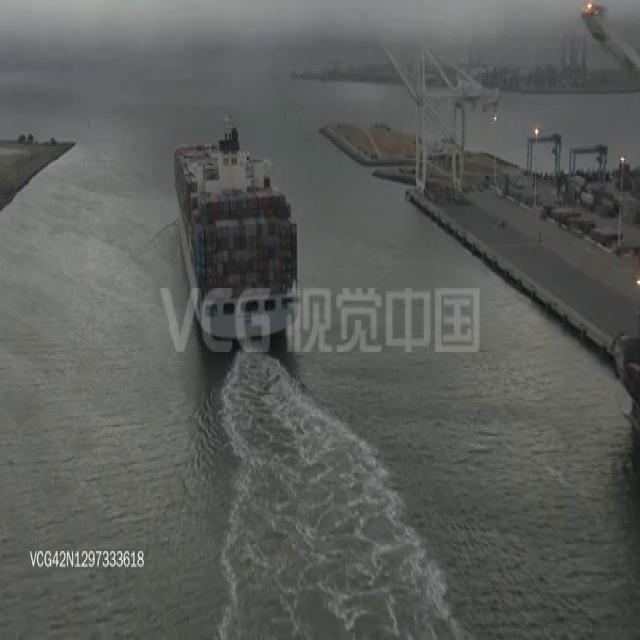cargoship: (173, 116, 302, 344)
